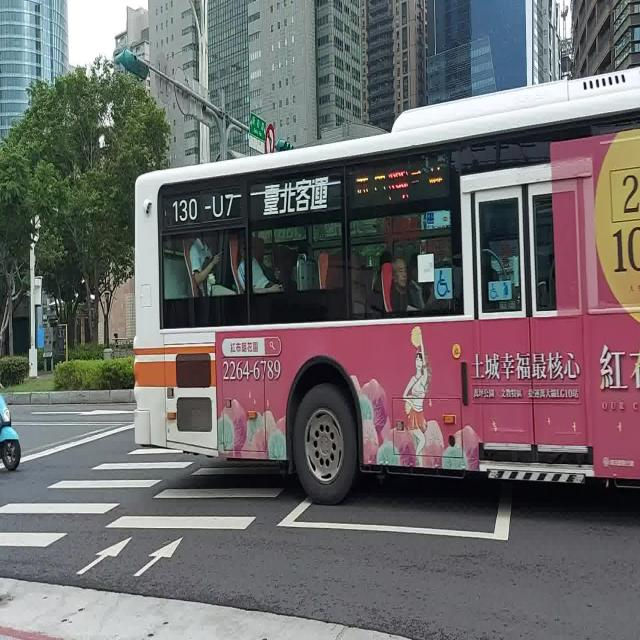bus: (134, 71, 640, 502)
crosswalk: (0, 447, 196, 548), (103, 463, 287, 530)
motocycle: (0, 393, 20, 471), (310, 349, 311, 352)
